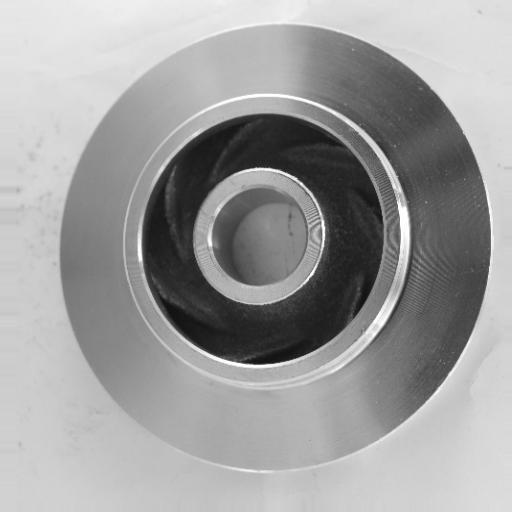polished_casting: (60, 20, 491, 473)
